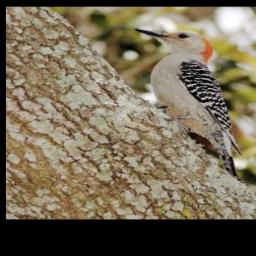Woodpecker: (130, 21, 251, 186)
